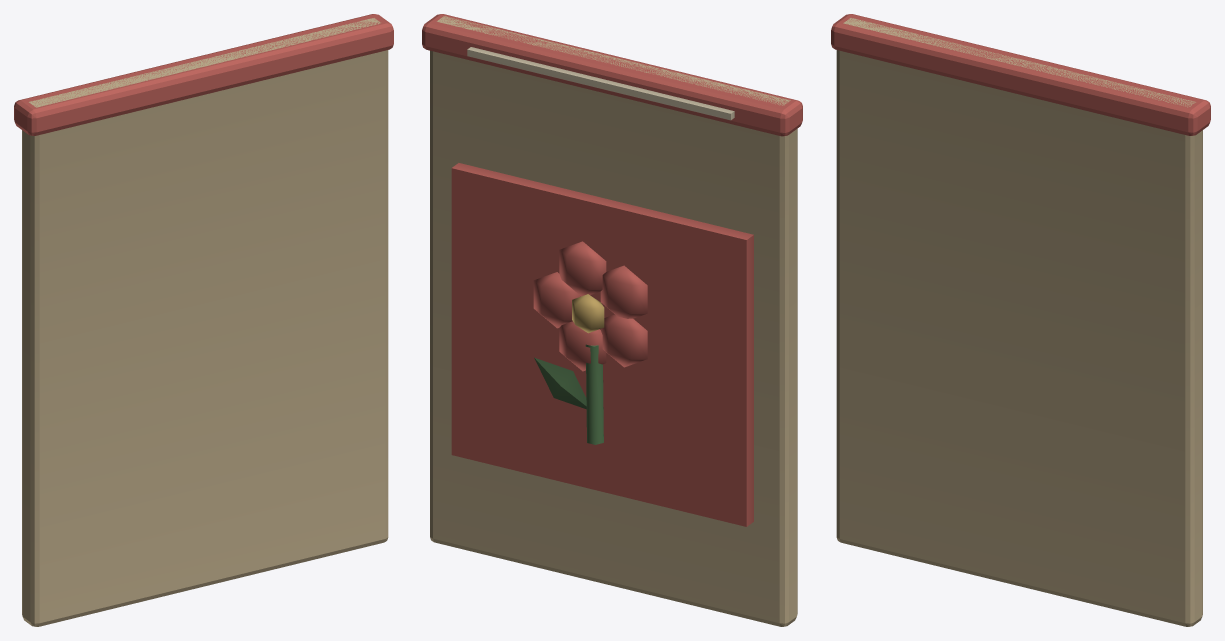
File: seed_flower_red.glb
3 views of the same model, side by side, from view 1: azimuth 30°, elevation 25°; view 2: azimuth 150°, elevation 25°; view 3: azimuth 330°, elevation 25° (orthographic).
Bounding box in the file's own units: 0.174 × 0.236 × 0.0318.
